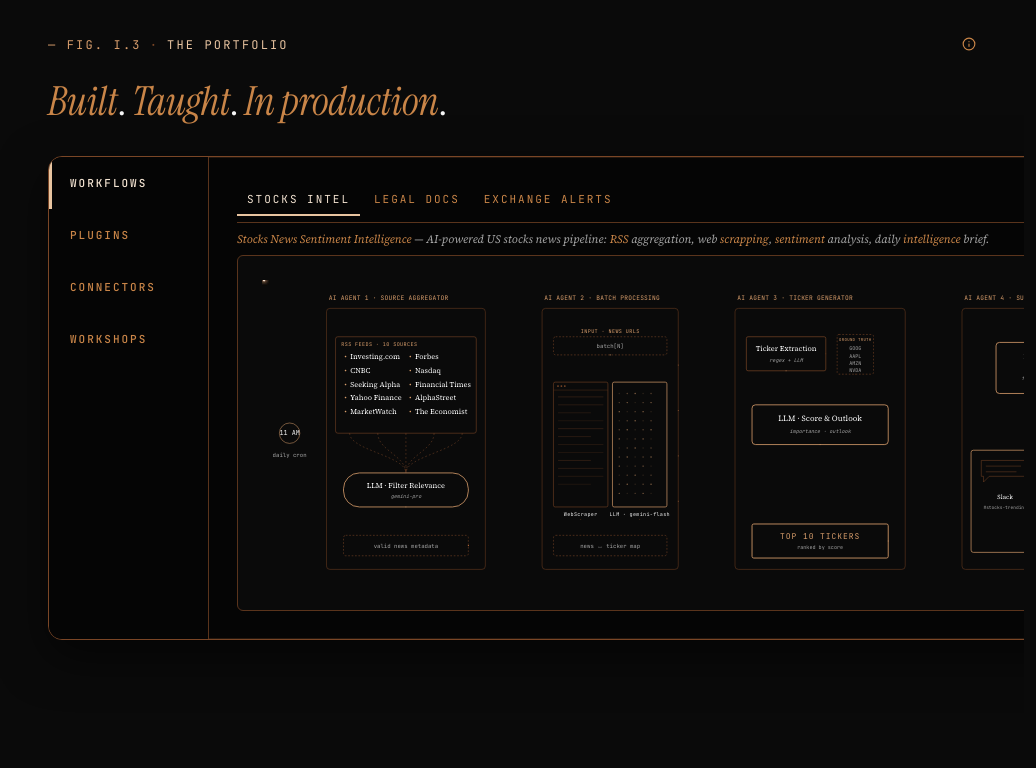
I.3 workflows sub-tabs swap the simulation diagram
The image size is (1036, 768).
Step 1. Click the tab with test id "workflows-subtab-legal-docs" → (417, 200), box x1=364 y1=185 x2=470 y2=216
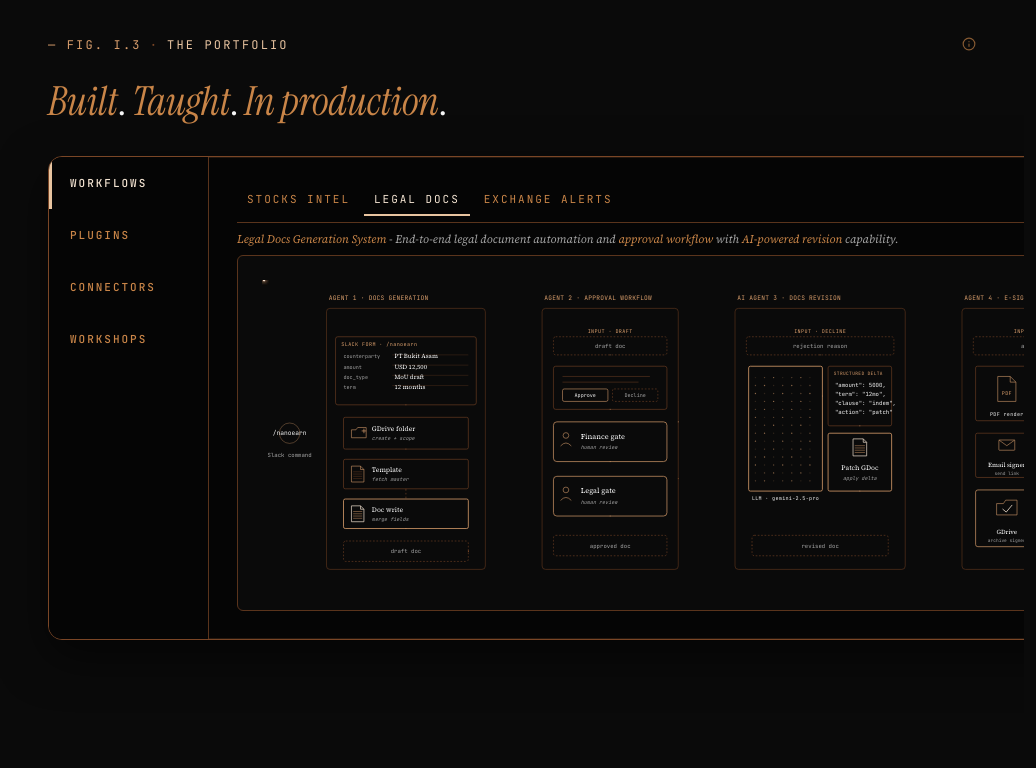
Check: the icon "Investing.com" is gone
